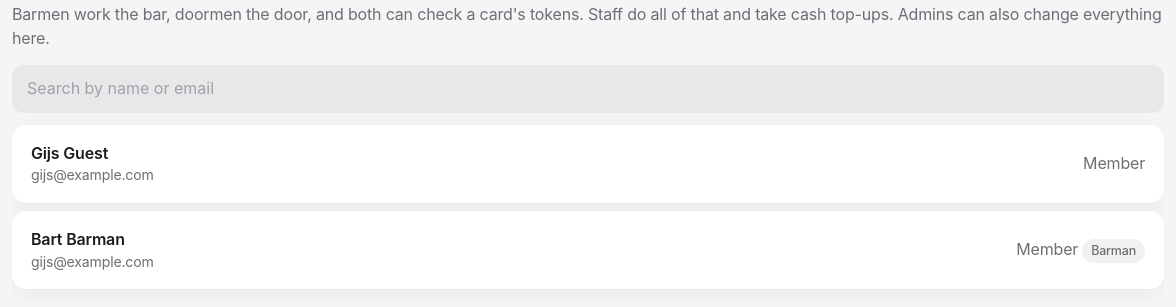
Test: MembersTab › lists just who is who, each opening the member's own page
Check: the link "Bart Barman gijs@example.com Member Barman" is shown, box [12,211,1164,289]
Type "bart" into the search field named "Search members". click: (588, 89)
box: [12,65,1164,113]
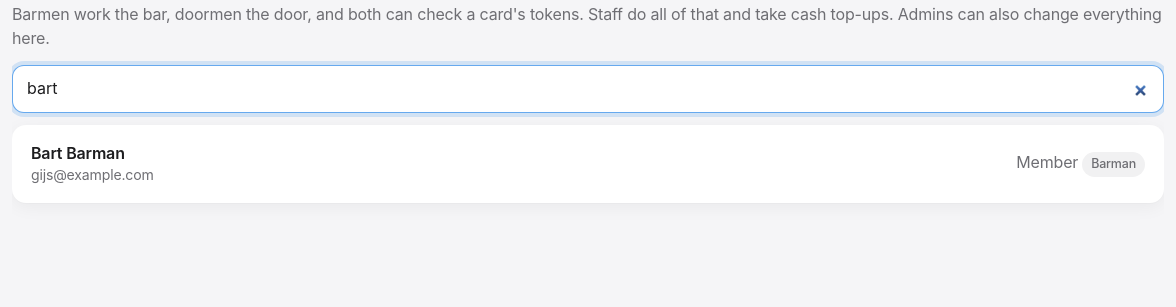
Check: the link "Gijs Guest" is gone
